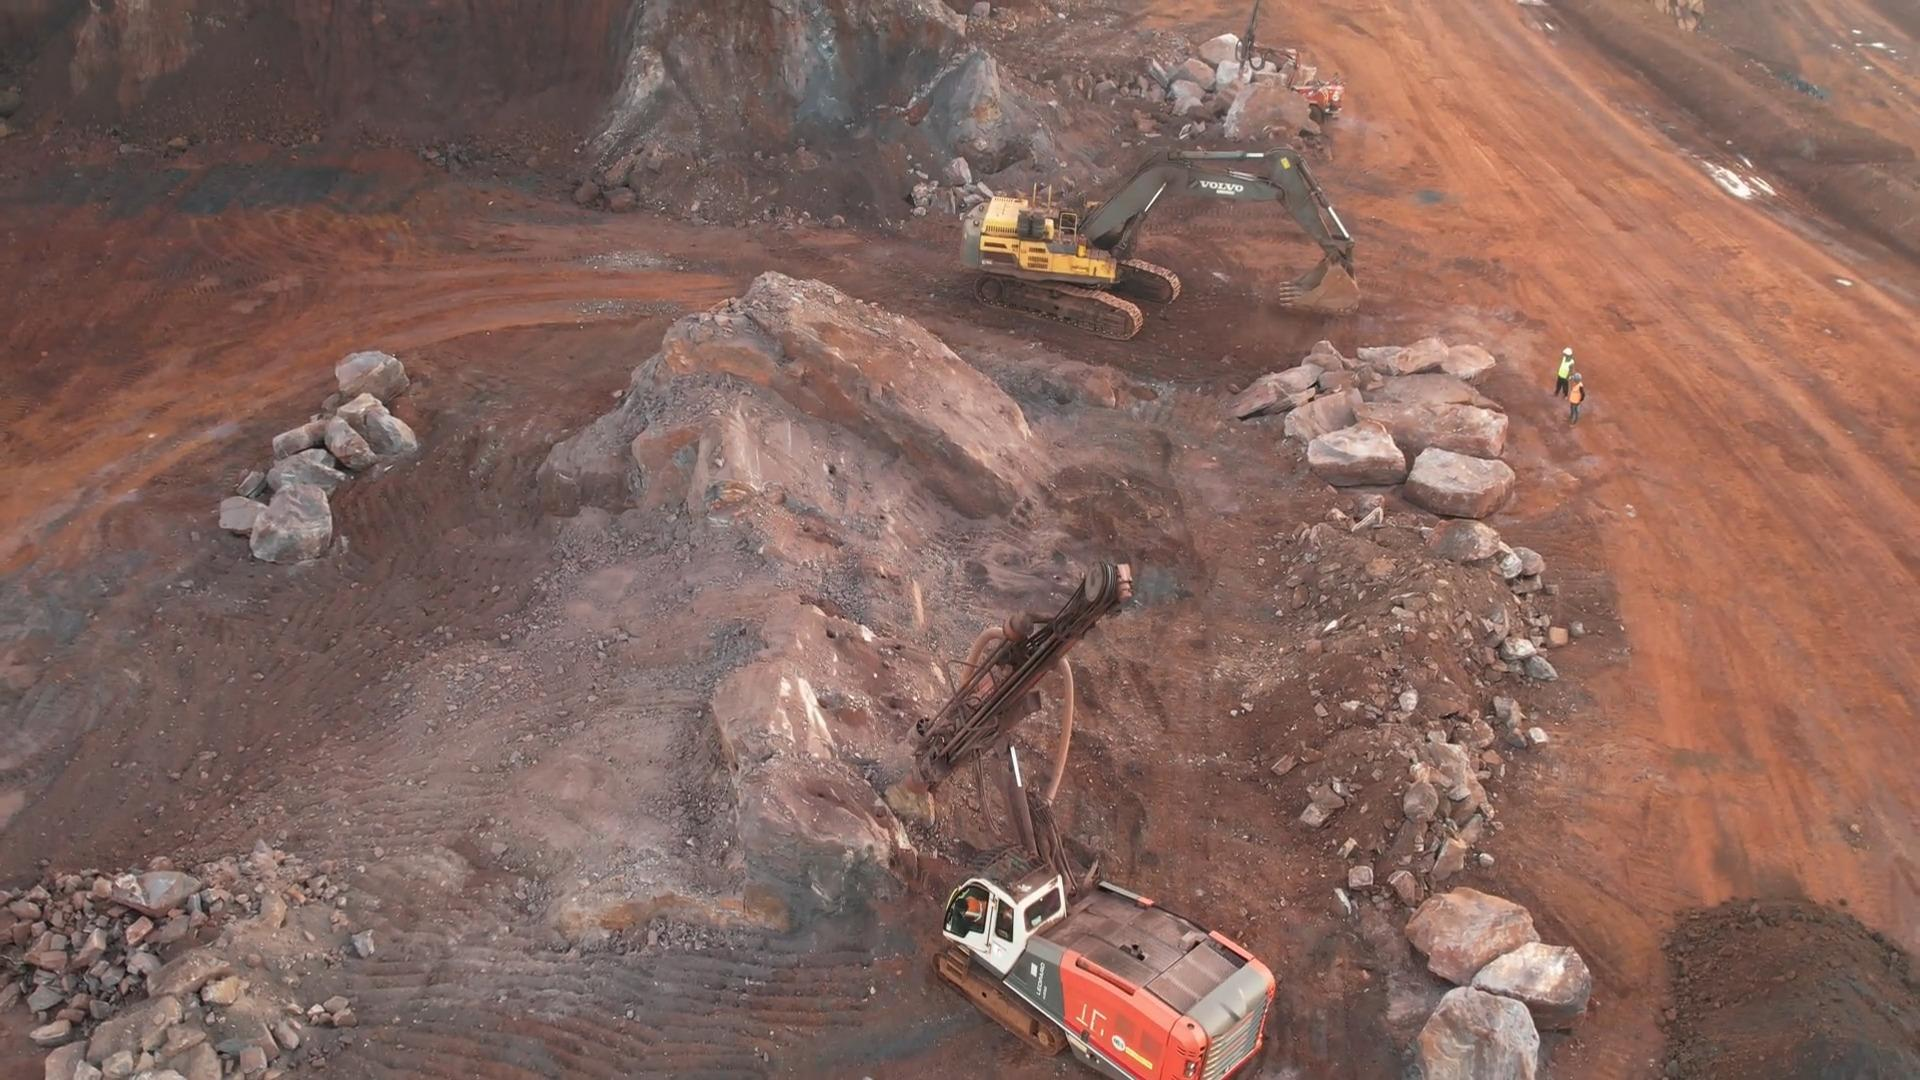excavator: (969, 154, 1345, 316)
